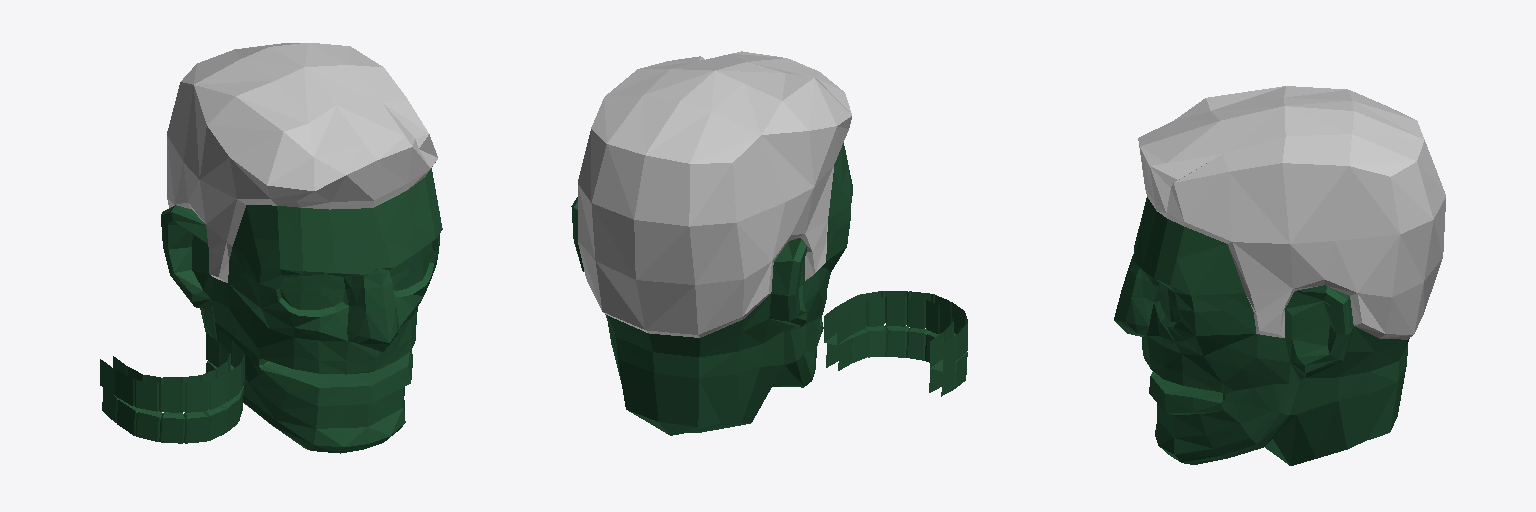
File: Head.obj
The picture shows the model from 3 angles: view 1: azimuth 30°, elevation 25°; view 2: azimuth 150°, elevation 25°; view 3: azimuth 270°, elevation 25°; orthographic projection.
Parts seen in each view (by area): view 1: initialShadingGroup Head1, initialShadingGroup Hair, initialShadingGroup Teeth, Head1; view 2: initialShadingGroup Hair, initialShadingGroup Head1, initialShadingGroup Teeth; view 3: initialShadingGroup Hair, initialShadingGroup Head1.
Boxes of the visible parts, x1=… form: initialShadingGroup Head1: x1=161, y1=168, x2=442, y2=453; initialShadingGroup Hair: x1=167, y1=43, x2=437, y2=282; initialShadingGroup Teeth: x1=100, y1=330, x2=244, y2=443; Head1: x1=280, y1=242, x2=432, y2=309; initialShadingGroup Hair: x1=578, y1=51, x2=851, y2=337; initialShadingGroup Head1: x1=571, y1=143, x2=852, y2=435; initialShadingGroup Teeth: x1=824, y1=291, x2=967, y2=396; initialShadingGroup Hair: x1=1138, y1=86, x2=1445, y2=339; initialShadingGroup Head1: x1=1114, y1=197, x2=1409, y2=465.
Bounding box in the file's own units: 39.97 × 40.4 × 34.86.